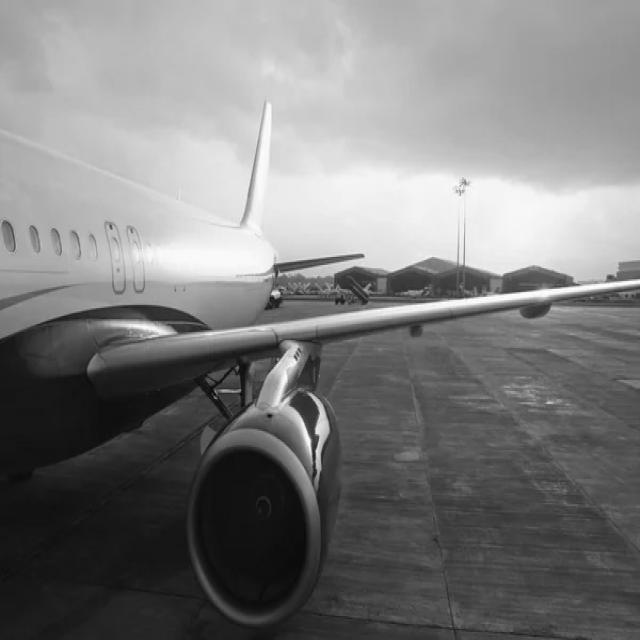Aircraft: (5, 109, 564, 606)
